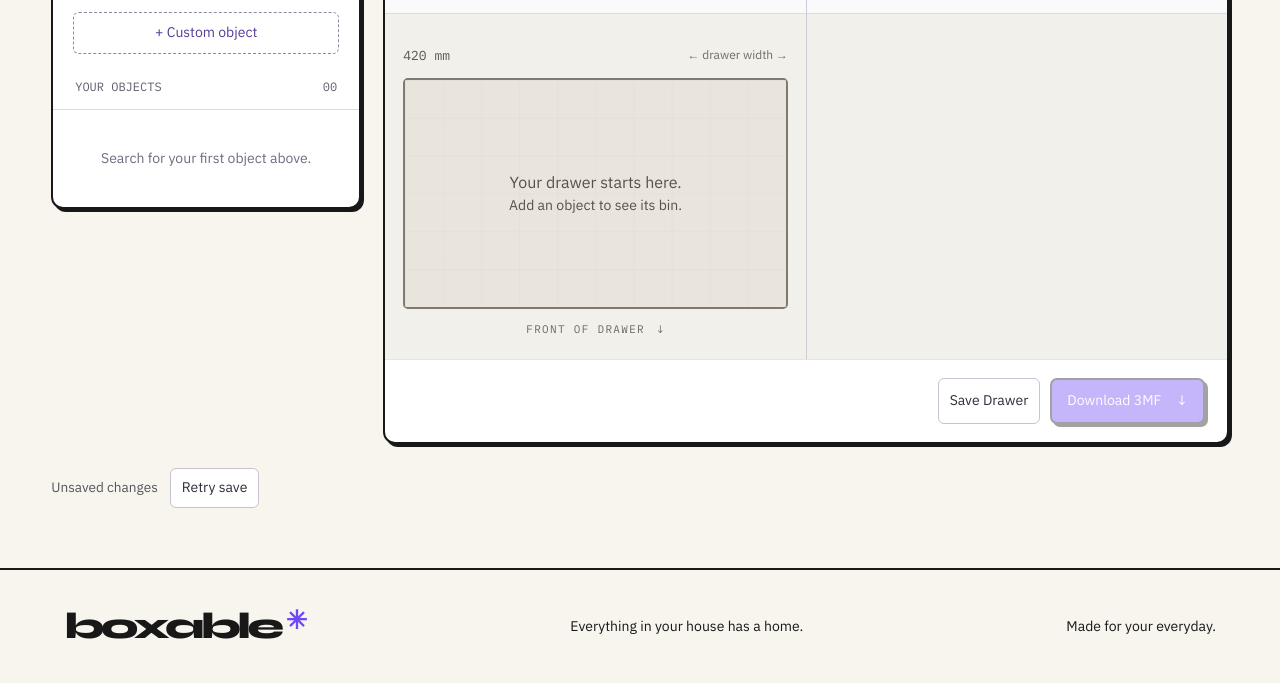
it: keeps the planner open and shows the error when saving fails
(page scrolled)
Click the button "Save Drawer".
click(989, 401)  # box [938,378,1040,424]
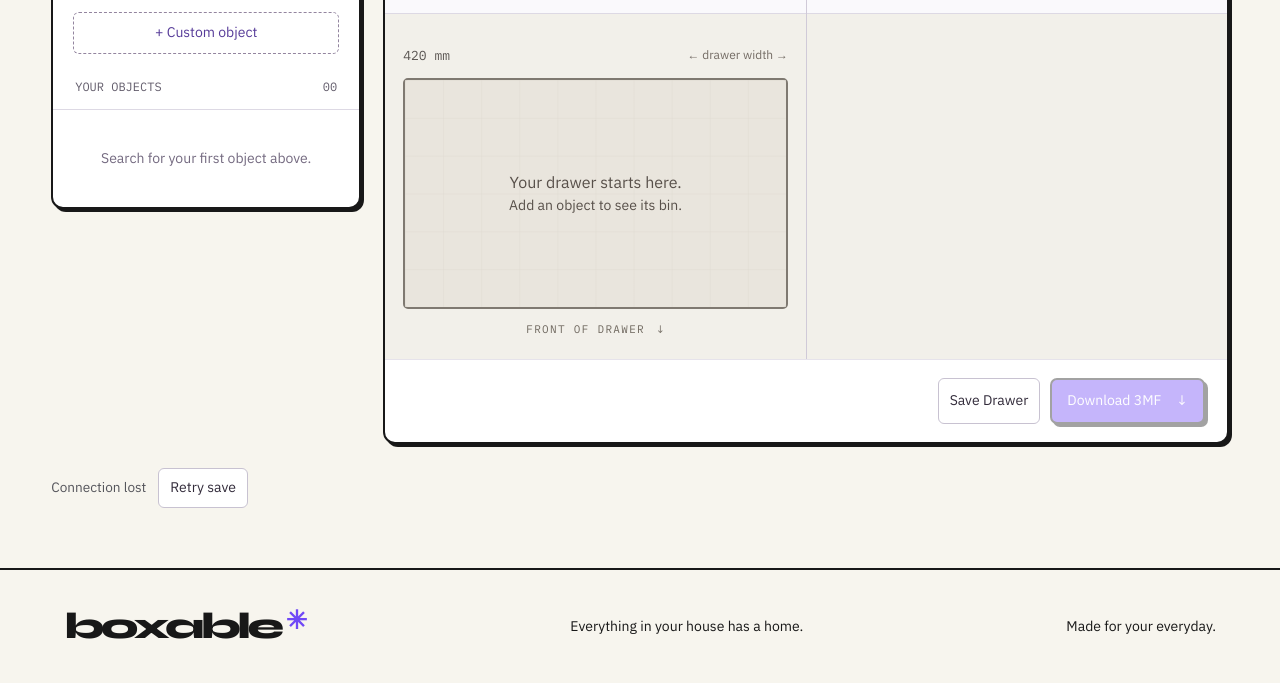
Expected: the text "Connection lost" is shown, [51,477,146,498]
